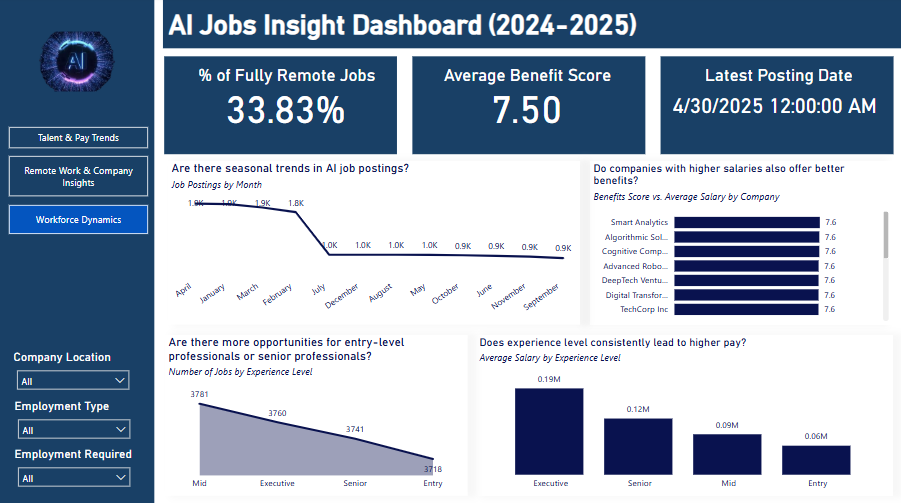

The page's visual inventory and layout, read from the dashboard file:
{"tool":"powerbi","page":{"name":"Workforce Dynamics","canvas":[1280,720],"ordinal":2},"visuals":[{"type":"clusteredBarChart","title":"Do companies with higher salaries also offer better benefits?","fields":{"Category":["AI_Jobs.company_name"],"Y":["AI_Jobs.Avg Benefits Score"]},"box":[837.6,232.4,429.4,232.4],"z":0},{"type":"card","fields":{"Values":["AI_Jobs.No Remote %"]},"box":[240.2,79,334.3,146.1],"z":1000},{"type":"card","fields":{"Values":["AI_Jobs.Avg Benefits Score"]},"box":[579.5,79,336,146.1],"z":2000},{"type":"card","fields":{"Values":["AI_Jobs.Latest Posting Date"]},"box":[930.6,79,336,146.1],"z":3000},{"type":"columnChart","title":"Does experience level consistently lead to higher pay?","fields":{"Category":["AI_Jobs.experience_level"],"Y":["AI_Jobs.Average Salary"]},"box":[676.1,479.1,591,228.2],"z":4000},{"type":"areaChart","title":"Are there more opportunities for entry-level professionals or senior professionals?","fields":{"Category":["AI_Jobs.experience_level"],"Y":["AI_Jobs.Total Job Postings"]},"box":[235.3,479.1,429.4,228.2],"z":5000},{"type":"textbox","box":[944,92.4,322.5,38.6],"z":6000},{"type":"textbox","box":[588.2,92.1,321.7,38.3],"z":7000},{"type":"textbox","box":[246.9,92.4,322.5,38.6],"z":8000},{"type":"actionButton","title":"Career Ladder","box":[14.2,294.8,197,41.1],"z":9000},{"type":"textbox","box":[235.3,11.3,793.7,55.3],"z":10000},{"type":"slicer","title":"Employment Type","fields":{"Values":["AI_Jobs.remote_status"]},"box":[17,569.8,178.6,68],"z":11000},{"type":"actionButton","title":"Work Flexibility Insights","box":[14.2,225.4,197,56.7],"z":12000},{"type":"actionButton","title":"Talent & Pay Trends","box":[14.2,184.3,197,29.8],"z":13000},{"type":"slicer","title":"Employment Required","fields":{"Values":["AI_Jobs.education_required"]},"box":[17,637.8,178.6,69.4],"z":14000},{"type":"slicer","title":"Company Location","fields":{"Values":["AI_Jobs.company_location"]},"box":[15.6,500.3,178.6,69.4],"z":15000},{"type":"image","box":[32.6,9.9,161.6,163],"z":16000},{"type":"lineChart","title":"Are there seasonal trends in AI job postings?","fields":{"Category":["Date.Month Name"],"Y":["AI_Jobs.Total Job Postings"]},"box":[239.5,232.4,583.9,232.4],"z":17000}]}

Visuals, with their boxes on the page's 1280x720 design canvas (x1, y1, x2, y2). These are canvas units, not pixel positions in the 901x503 screenshot, which may show the page scaled, cropped or inside an application window:
"Do companies with higher salaries also offer better benefits?" clusteredBarChart: rect(838, 232, 1267, 465)
card - AI_Jobs.No Remote %: rect(240, 79, 574, 225)
card - AI_Jobs.Avg Benefits Score: rect(580, 79, 916, 225)
card - AI_Jobs.Latest Posting Date: rect(931, 79, 1267, 225)
"Does experience level consistently lead to higher pay?" columnChart: rect(676, 479, 1267, 707)
"Are there more opportunities for entry-level professionals or senior professionals?" areaChart: rect(235, 479, 665, 707)
textbox: rect(944, 92, 1266, 131)
textbox: rect(588, 92, 910, 130)
textbox: rect(247, 92, 569, 131)
"Career Ladder" actionButton: rect(14, 295, 211, 336)
textbox: rect(235, 11, 1029, 67)
"Employment Type" slicer: rect(17, 570, 196, 638)
"Work Flexibility Insights" actionButton: rect(14, 225, 211, 282)
"Talent & Pay Trends" actionButton: rect(14, 184, 211, 214)
"Employment Required" slicer: rect(17, 638, 196, 707)
"Company Location" slicer: rect(16, 500, 194, 570)
image: rect(33, 10, 194, 173)
"Are there seasonal trends in AI job postings?" lineChart: rect(240, 232, 823, 465)
